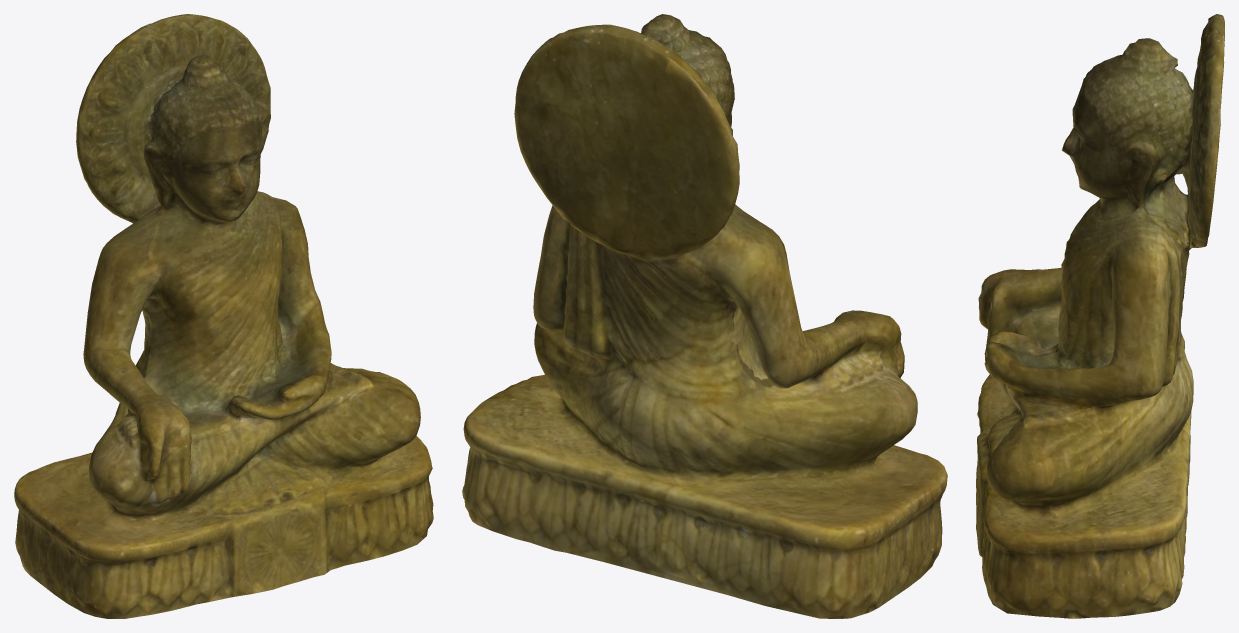
The model's file is sf-open-source-buddha-98fcee.glb.
3 views of the same model, side by side, from view 1: azimuth 30°, elevation 25°; view 2: azimuth 150°, elevation 25°; view 3: azimuth 270°, elevation 25° (orthographic). The views are drawn at different scales.
Parts seen in each view (by area): view 1: model_dense_mesh_texture.mmgs.iterativemethod_modeldensemesh; view 2: model_dense_mesh_texture.mmgs.iterativemethod_modeldensemesh; view 3: model_dense_mesh_texture.mmgs.iterativemethod_modeldensemesh.
Boxes of the visible parts, left/top/right/bottom form: model_dense_mesh_texture.mmgs.iterativemethod_modeldensemesh: left=14, top=14, right=433, bottom=618; model_dense_mesh_texture.mmgs.iterativemethod_modeldensemesh: left=462, top=14, right=947, bottom=618; model_dense_mesh_texture.mmgs.iterativemethod_modeldensemesh: left=976, top=14, right=1224, bottom=618.
Size of what is drawn, in the model's own units: 69.62 by 89.51 by 39.5.
1 material, 1 textured.
